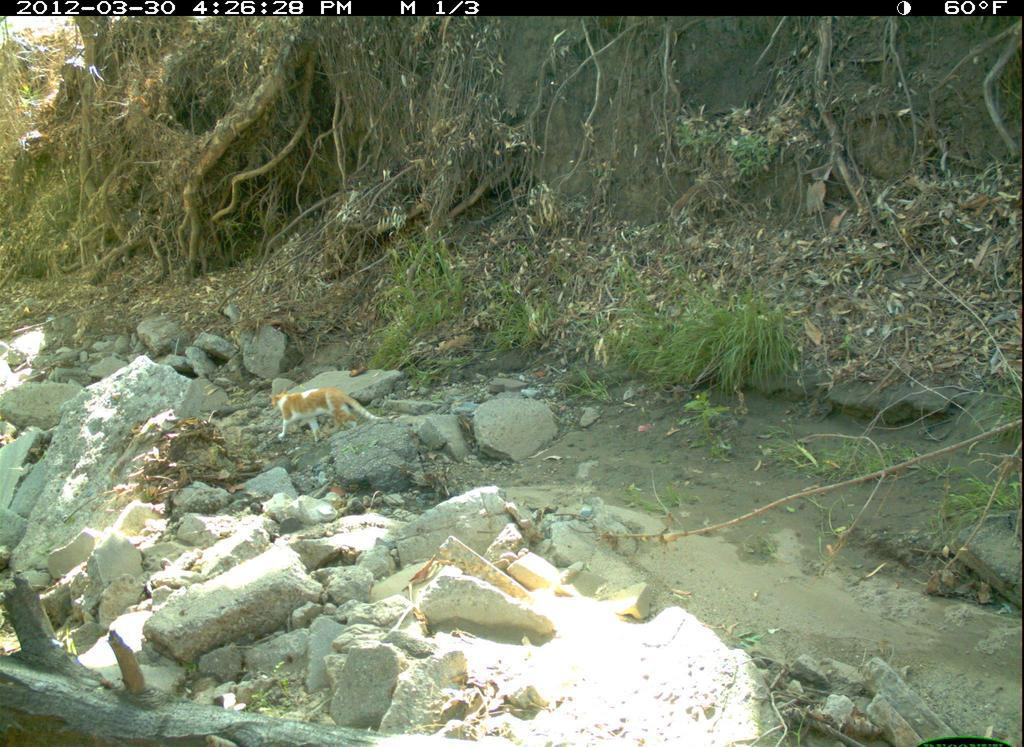cat: (259, 374, 392, 447)
